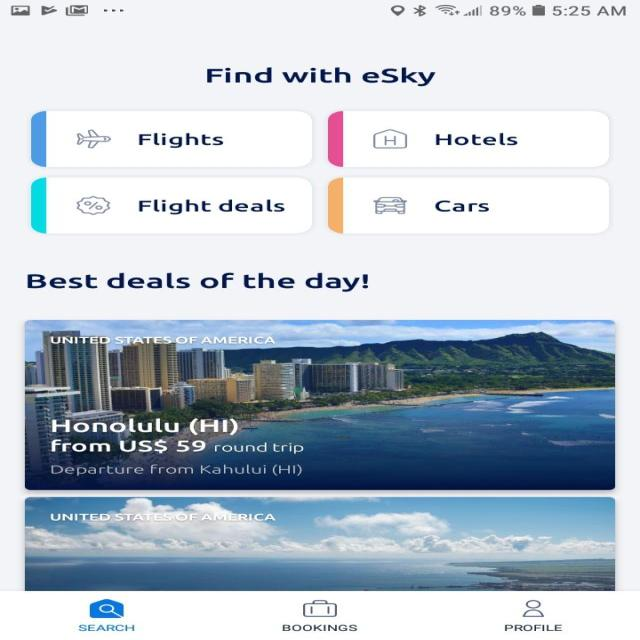Icon: (88, 598, 124, 618), (302, 599, 337, 616), (522, 599, 544, 617)
Image: (24, 319, 614, 490), (24, 496, 614, 590), (372, 129, 408, 148), (76, 129, 112, 148), (76, 196, 112, 215), (372, 197, 408, 214)
Text: (51, 418, 304, 454), (26, 272, 368, 292), (206, 66, 436, 86), (50, 464, 302, 476), (47, 336, 275, 344), (49, 512, 276, 520), (282, 624, 358, 631), (504, 624, 562, 631), (78, 624, 134, 631)
TextButton: (327, 110, 609, 168), (30, 110, 312, 167), (327, 178, 609, 234), (30, 178, 312, 234)
